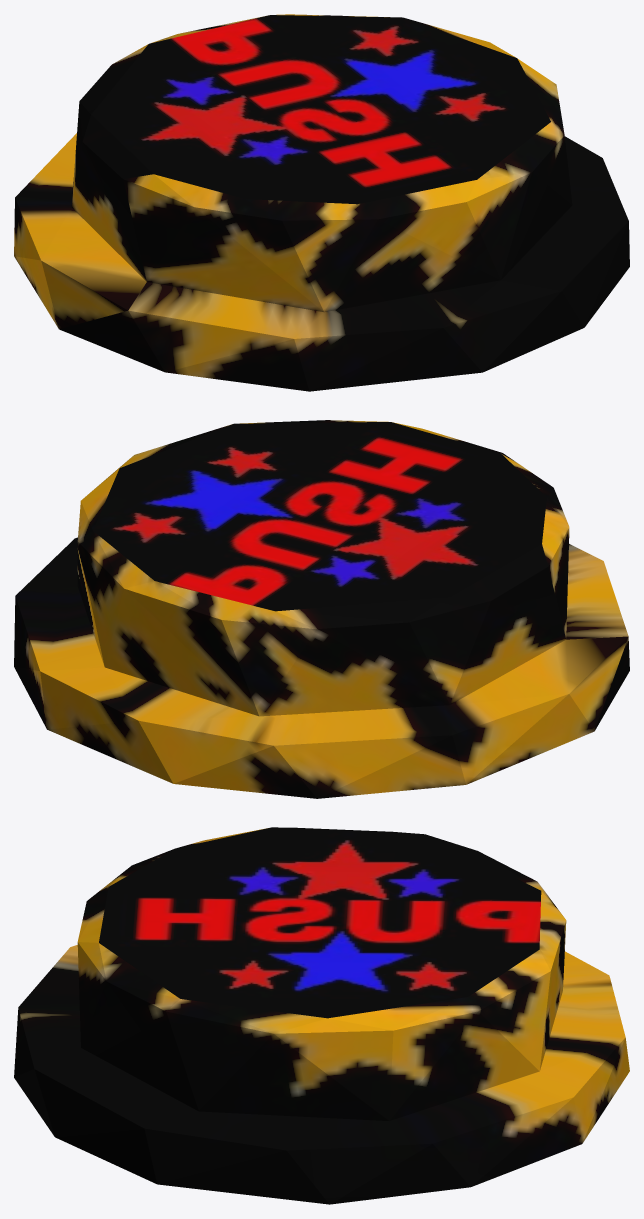
Rendered from pushBtn.obj.
3 renders of one model, top to bottom at view 1: azimuth 30°, elevation 25°; view 2: azimuth 150°, elevation 25°; view 3: azimuth 270°, elevation 25°, orthographic.
Visible parts, largest first — view 1: Cylinder_Material; view 2: Cylinder_Material; view 3: Cylinder_Material.
Part boxes in pixels (bbox=[...]): Cylinder_Material: bbox=[14, 14, 629, 391]; Cylinder_Material: bbox=[14, 420, 629, 798]; Cylinder_Material: bbox=[14, 827, 629, 1204].
Bounding box in the file's own units: 3.72 × 1.02 × 3.72.
